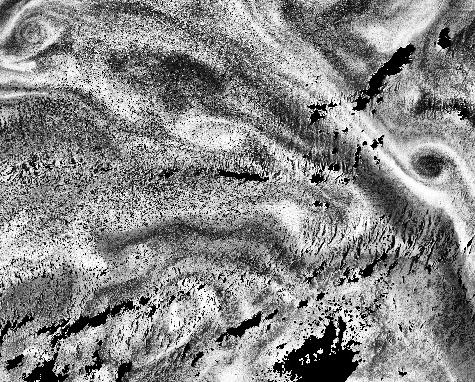CE: (406, 139, 463, 188), (15, 12, 60, 48)
